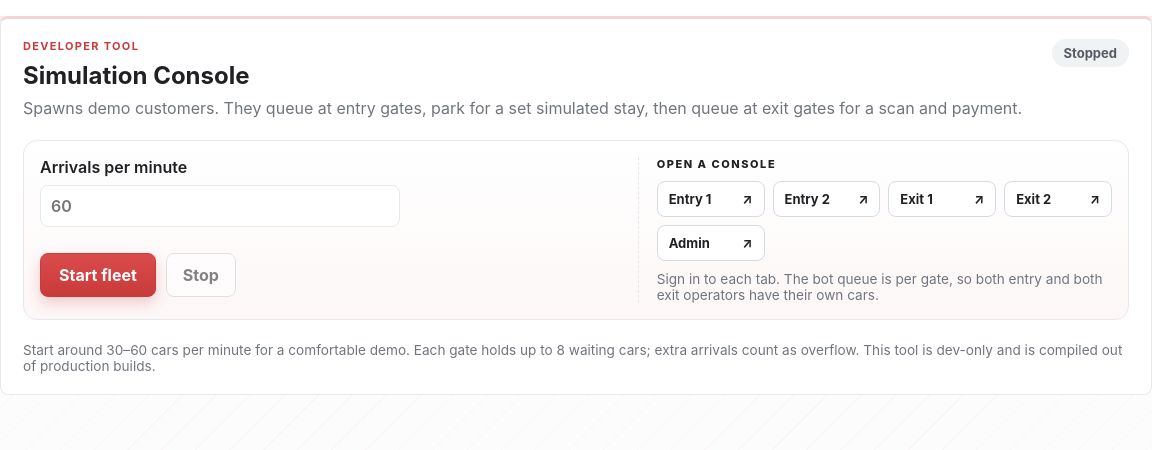
Test: S4-T3 — Simulation Console › stops a running generator and reports the stopped state
Click the button "Start fleet".
click(98, 275)  # box [40,253,156,297]
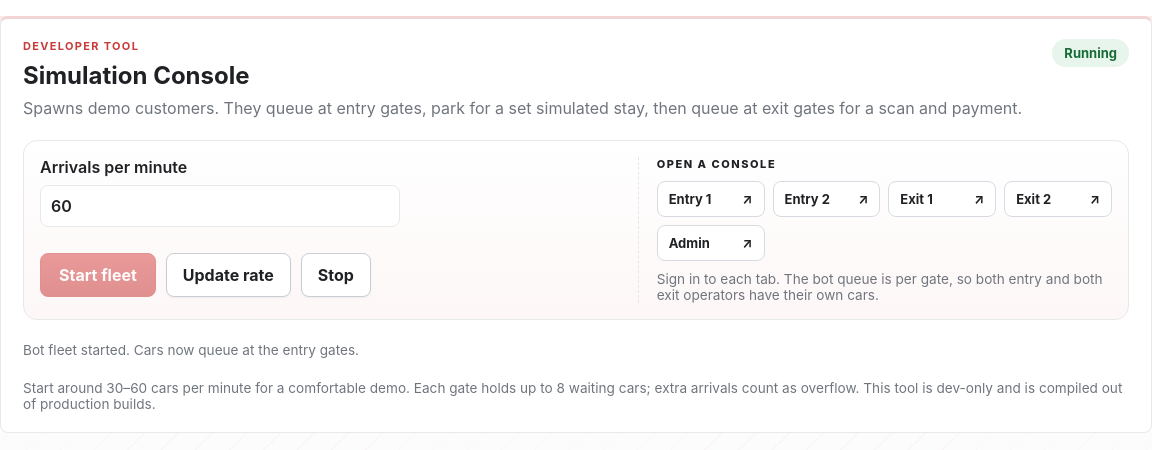
Expected: the text "Running" is shown, [1052,39,1129,67]
Click the button "Stop".
click(336, 275)  # box [301,253,371,297]
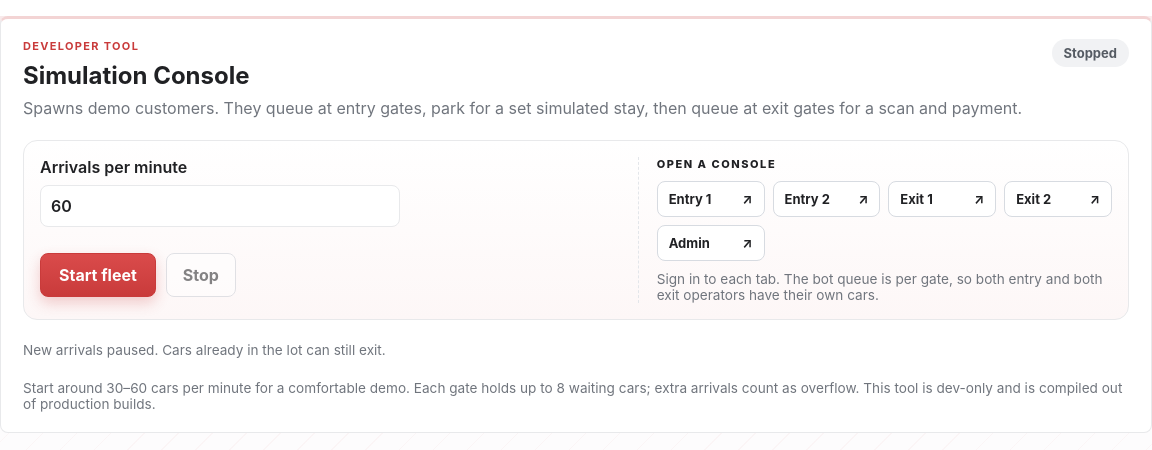
Expected: the text "Stopped" is shown, [1052,39,1129,67]
